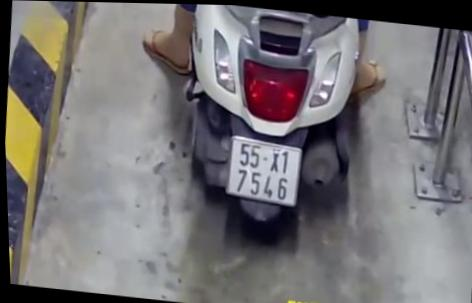LP: (221, 132, 306, 207)
